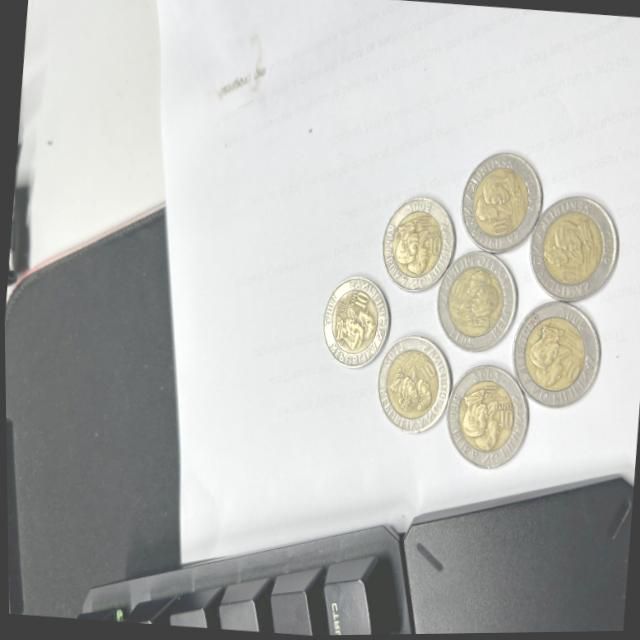10_Old_Front: (493, 407, 512, 434), (488, 218, 508, 241), (558, 263, 576, 288), (559, 362, 579, 383), (447, 279, 465, 302), (424, 237, 441, 260), (350, 290, 366, 311), (417, 363, 434, 382)
